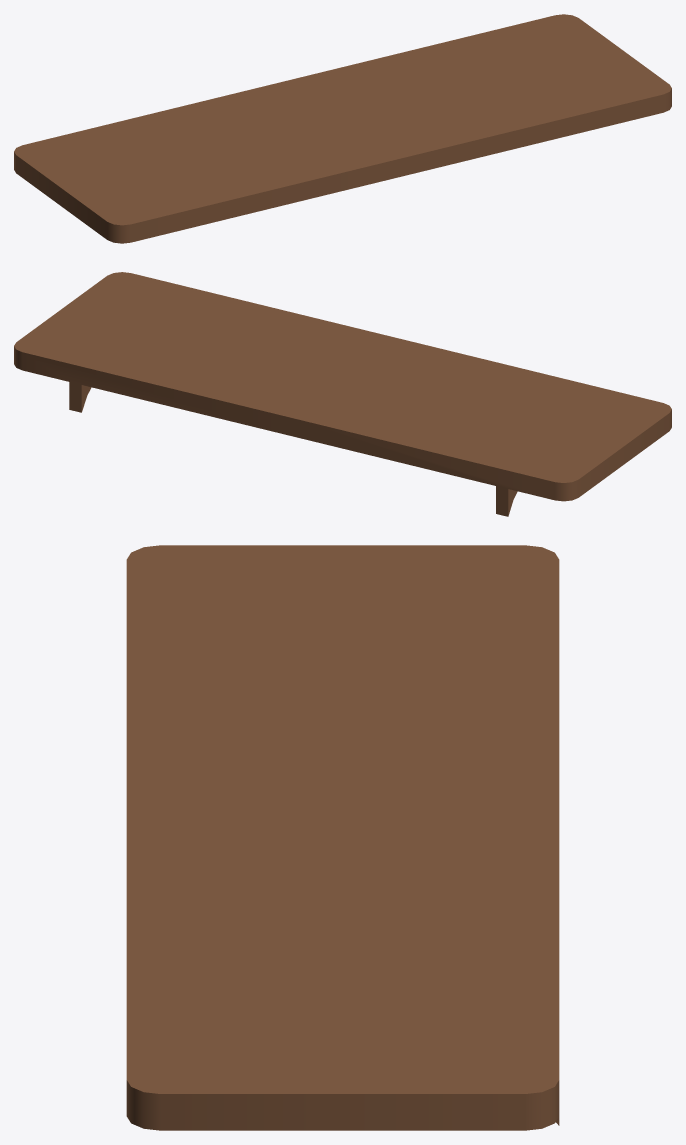
Rendered from 105_106_shelf.glb.
The picture shows the model from 3 angles, top to bottom: view 1: azimuth 30°, elevation 25°; view 2: azimuth 150°, elevation 25°; view 3: azimuth 270°, elevation 25°; orthographic projection. The views are drawn at different scales.
Visible parts, largest first — view 1: Plane; view 2: Plane; view 3: Plane.
Part boxes in pixels (x1,y1,x2,y2): Plane: (14,14,671,243); Plane: (14,272,671,516); Plane: (126,545,559,1130).
Size of the model in its own units: 2.25 by 0.1765 by 0.75.
